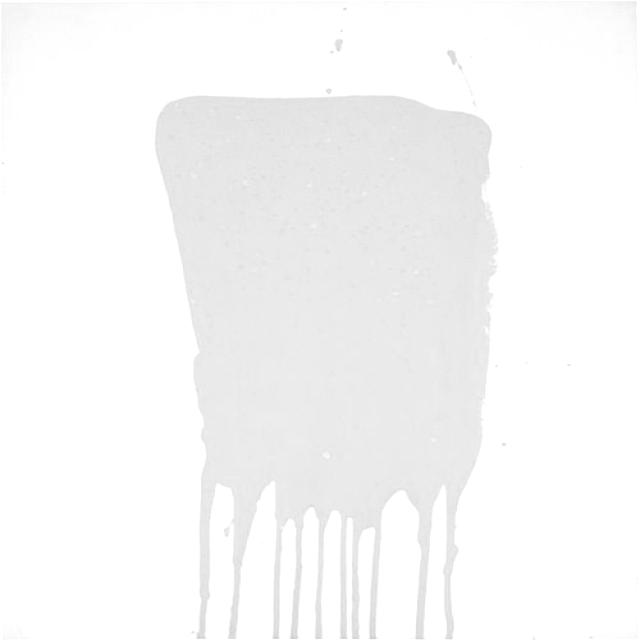paint drips: (182, 450, 480, 640)
